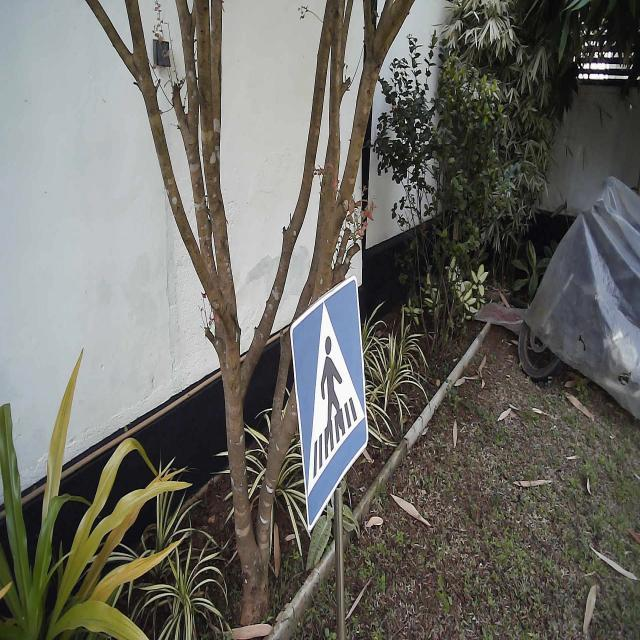crosswalk_sign: (290, 274, 370, 534)
